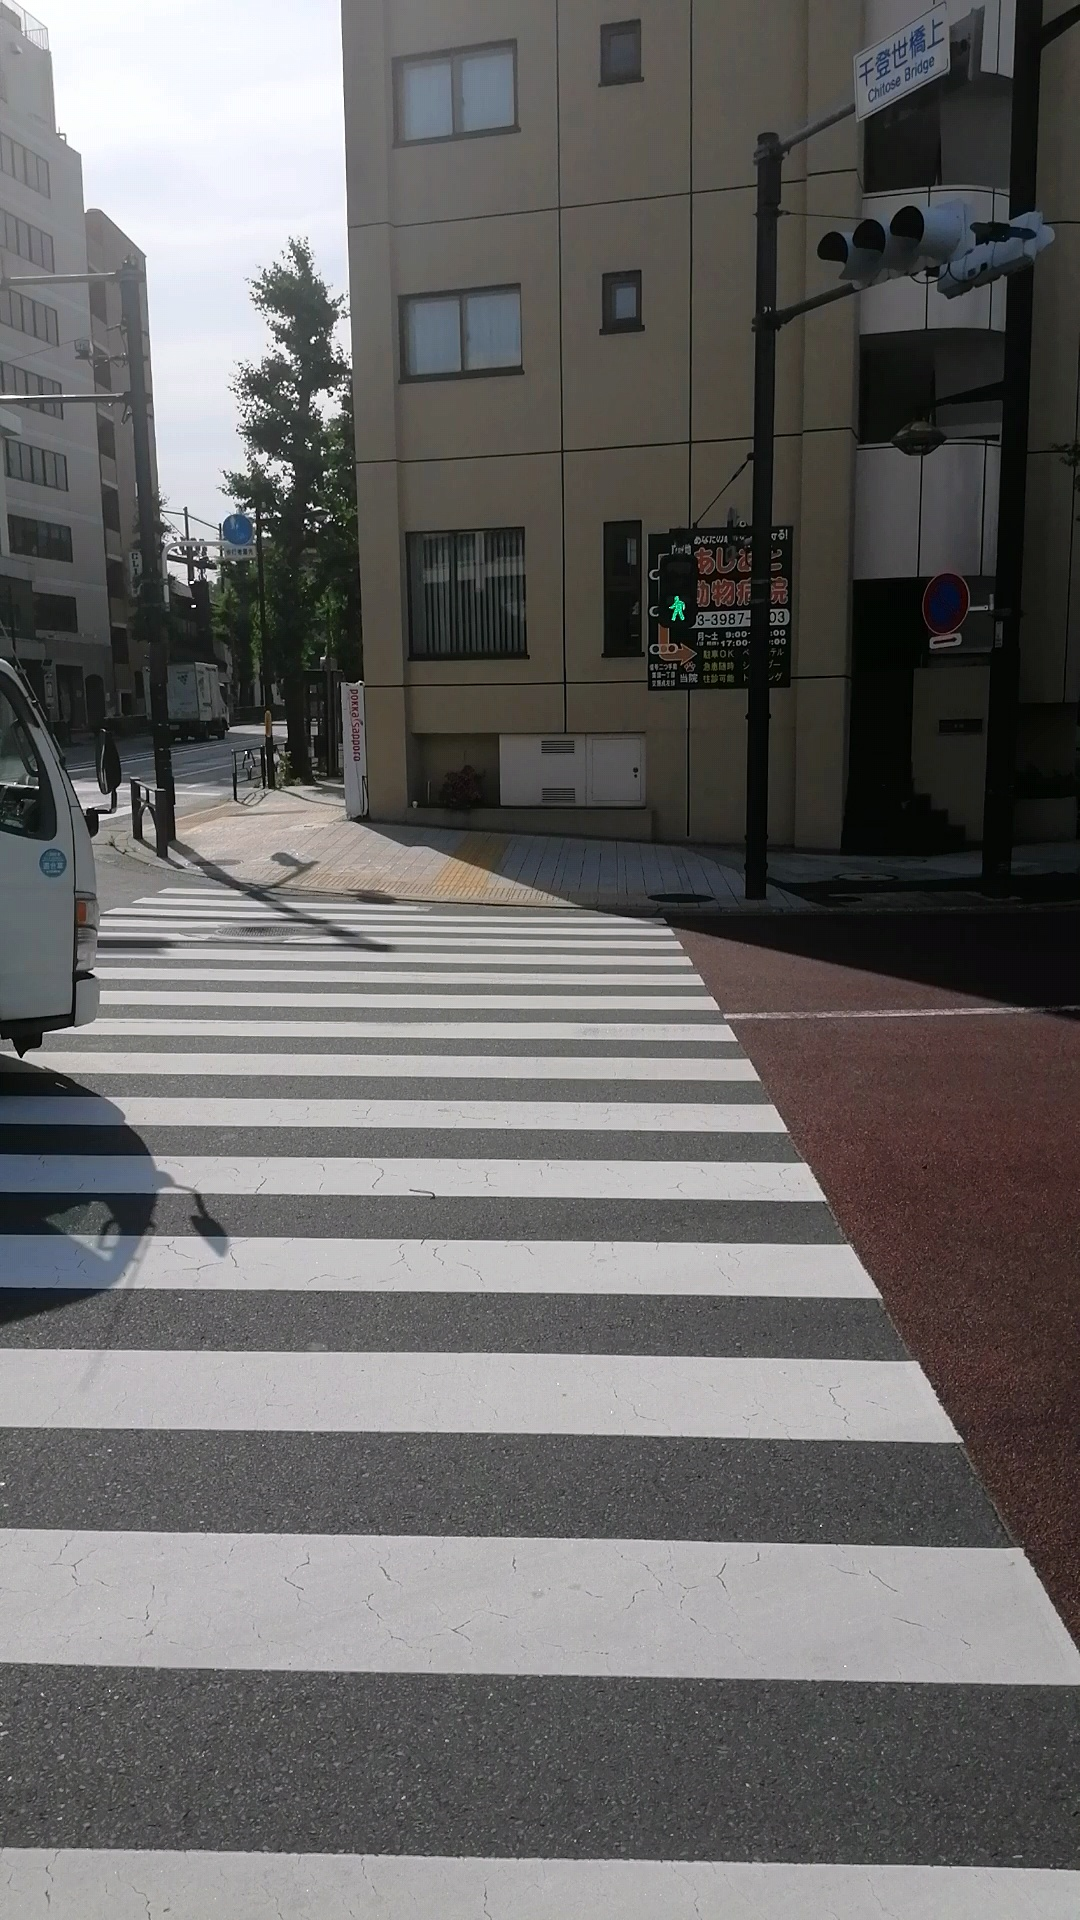green: (658, 555, 698, 628)
